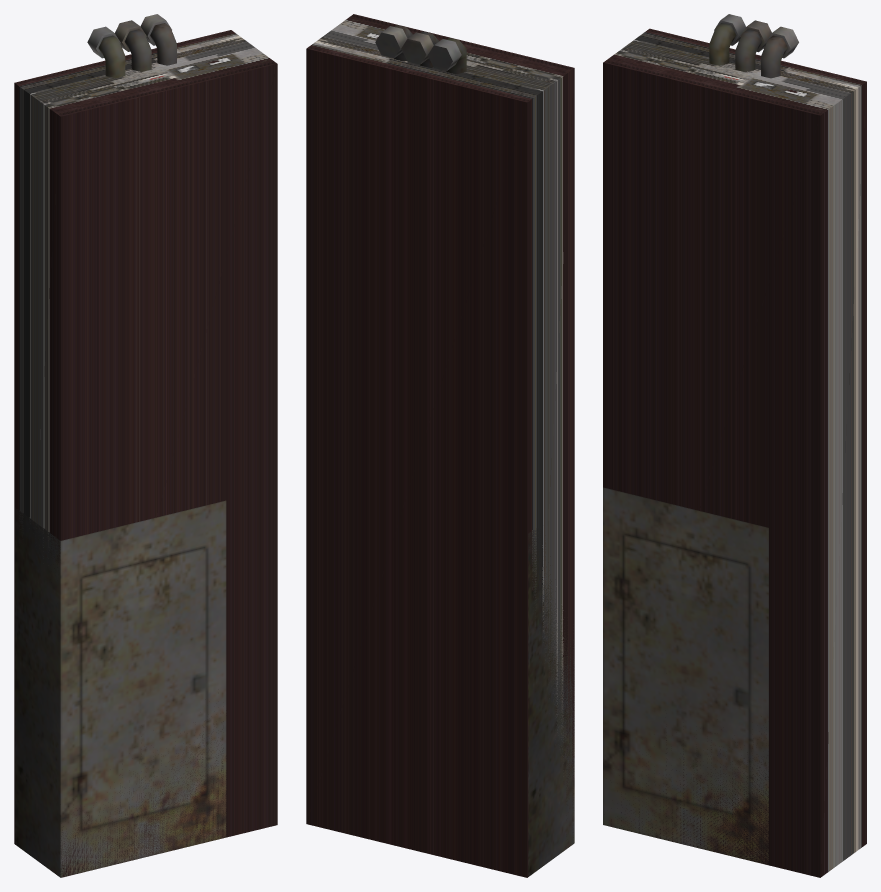
Rendered from fuse_box_01.DAE.
The picture shows the model from 3 angles, left to right: view 1: azimuth 30°, elevation 25°; view 2: azimuth 150°, elevation 25°; view 3: azimuth 330°, elevation 25°; orthographic projection.
Visible parts, largest first — view 1: colbox-01, fuse_box_one; view 2: colbox-01, fuse_box_one; view 3: colbox-01, fuse_box_one.
Part boxes in pixels (x1,y1,x2,y2): colbox-01: (14,30,277,877); fuse_box_one: (15,14,226,877); colbox-01: (306,14,574,877); fuse_box_one: (375,25,574,876); colbox-01: (603,28,866,877); fuse_box_one: (603,14,798,865).
Bounding box in the file's own units: 76.87 × 28.5 × 269.
